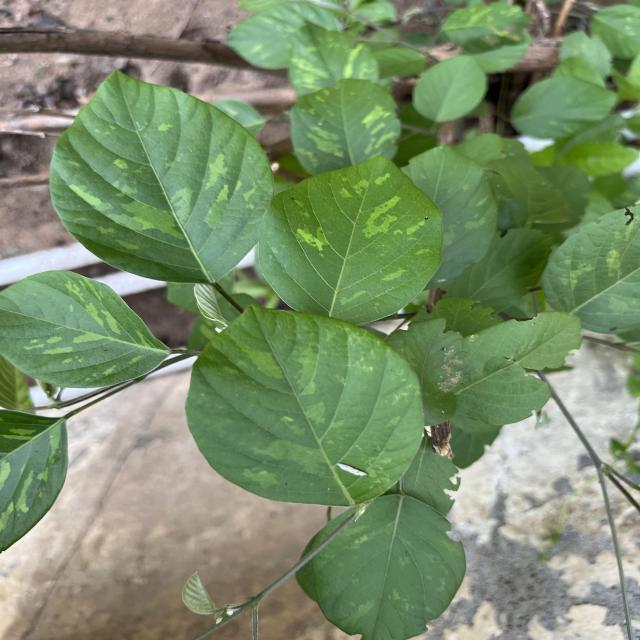Desmodium gangeticum: (182, 300, 432, 512), (46, 65, 278, 288), (254, 150, 448, 326), (0, 267, 172, 391)
